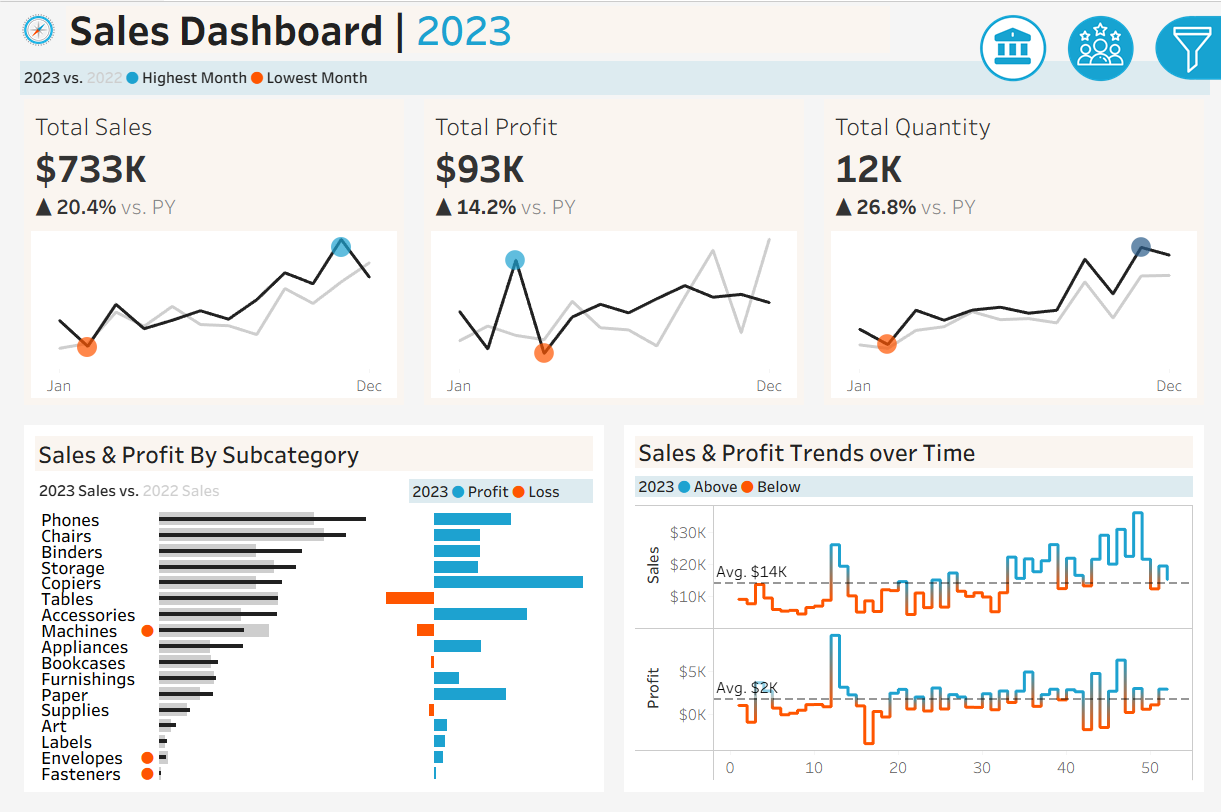

The page's visual inventory and layout, read from the dashboard file:
{"tool":"tableau","page":{"name":"Sales Dashboard","canvas":[1200,800],"ordinal":1},"visuals":[{"type":"image","param":"C:/Users/HP Elitebook 830 G5/Desktop/Barra/Projects/Tableau/Sales Dashboard/Sale","box":[0,0,48,55]},{"type":"text","box":[48,0,832,55]},{"type":"dashboard-object","box":[955,8,88,76]},{"type":"dashboard-object","box":[1043,8,87,76]},{"type":"blank","box":[971,10,224,81]},{"type":"worksheet","title":"Legend KPI","mark":"Automatic","box":[0,55,1200,42]},{"type":"text","box":[971,91,224,47]},{"type":"worksheet","title":"KPI Sales","mark":"Automatic","rows":["Calculation_1479714005708521476"],"cols":["Order Date"],"box":[0,97,400,316]},{"type":"worksheet","title":"KPI Profit","mark":"Automatic","rows":["Min/Max Sales (copy)_297237628722925572"],"cols":["Order Date"],"box":[400,97,400,316]},{"type":"worksheet","title":"KPI Quantity","mark":"Automatic","rows":["Min/Max Profit (copy)_297237628750594058"],"cols":["Order Date"],"box":[800,97,400,316]},{"type":"parameter","param":"[Parameters].[Parameter 1]","box":[971,138,224,60]},{"type":"text","box":[971,198,224,39]},{"type":"filter","title":"KPI Sales","param":"[federated.1dxhorm0lmgu241a8lsme1jk4mp3].[none:Category:nk]","box":[971,237,224,70]},{"type":"filter","title":"KPI Sales","param":"[federated.1dxhorm0lmgu241a8lsme1jk4mp3].[none:Sub-Category:nk]","box":[971,307,224,70]},{"type":"blank","box":[971,377,224,65]},{"type":"text","box":[17,430,566,43]},{"type":"text","box":[617,430,566,39.6]},{"type":"text","box":[971,442,224,39]},{"type":"text","box":[617,469.6,566,29.4]},{"type":"worksheet","title":"Legend Subcategory","mark":"Automatic","box":[17,473,374,32]},{"type":"text","box":[391,473,192,32]},{"type":"filter","title":"KPI Sales","param":"[federated.1dxhorm0lmgu241a8lsme1jk4mp3].[none:Region:nk]","box":[971,481,224,70]},{"type":"worksheet","title":"Weekly Trends","mark":"Automatic","rows":["Calculation_1479714005700444160","CY Sales (copy)_297237628720521216"],"cols":["Order Date"],"box":[617,499,566,284]},{"type":"worksheet","title":"Subcategory Comparison","mark":"Bar","rows":["Sub-Category","Calculation_297237628759076877"],"cols":["CY Sales (copy)_1479714005701095425","Calculation_1479714005700444160","CY Sales (copy)_297237628720521216"],"box":[17,505,566,278]},{"type":"filter","title":"KPI Sales","param":"[federated.1dxhorm0lmgu241a8lsme1jk4mp3].[none:State:nk]","box":[971,551,224,70]},{"type":"filter","title":"KPI Sales","param":"[federated.1dxhorm0lmgu241a8lsme1jk4mp3].[none:City:nk]","box":[971,621,224,70]}]}

Visuals, with their boxes in screenshot pixels (x1, y1, x2, y2), scaled from the page's 1200x800 canvas onto the 1221x812 screenshot:
image: 0 0 49 56
text: 49 0 895 56
dashboard-object: 972 8 1061 85
dashboard-object: 1061 8 1150 85
blank: 988 10 1216 92
"Legend KPI" worksheet: 0 56 1220 98
text: 988 92 1216 140
"KPI Sales" worksheet: 0 98 407 419
"KPI Profit" worksheet: 407 98 814 419
"KPI Quantity" worksheet: 814 98 1220 419
parameter: 988 140 1216 201
text: 988 201 1216 241
"KPI Sales" filter: 988 241 1216 312
"KPI Sales" filter: 988 312 1216 383
blank: 988 383 1216 449
text: 17 436 593 480
text: 628 436 1204 477
text: 988 449 1216 488
text: 628 477 1204 506
"Legend Subcategory" worksheet: 17 480 398 513
text: 398 480 593 513
"KPI Sales" filter: 988 488 1216 559
"Weekly Trends" worksheet: 628 506 1204 795
"Subcategory Comparison" worksheet (Bar marks): 17 513 593 795
"KPI Sales" filter: 988 559 1216 630
"KPI Sales" filter: 988 630 1216 701
